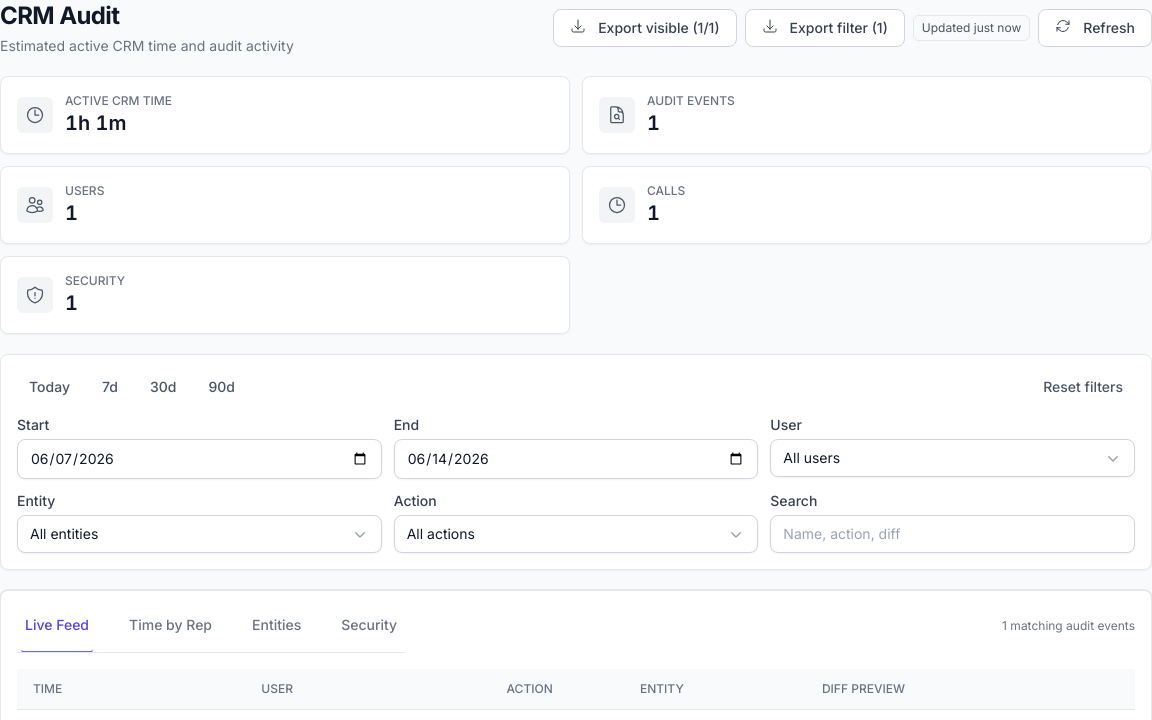
Test: AdminAuditPage › opens rep and entity detail drawers
Click the button "Time by Rep" at (170, 626), box x1=125 y1=599 x2=216 y2=653
(page scrolled)
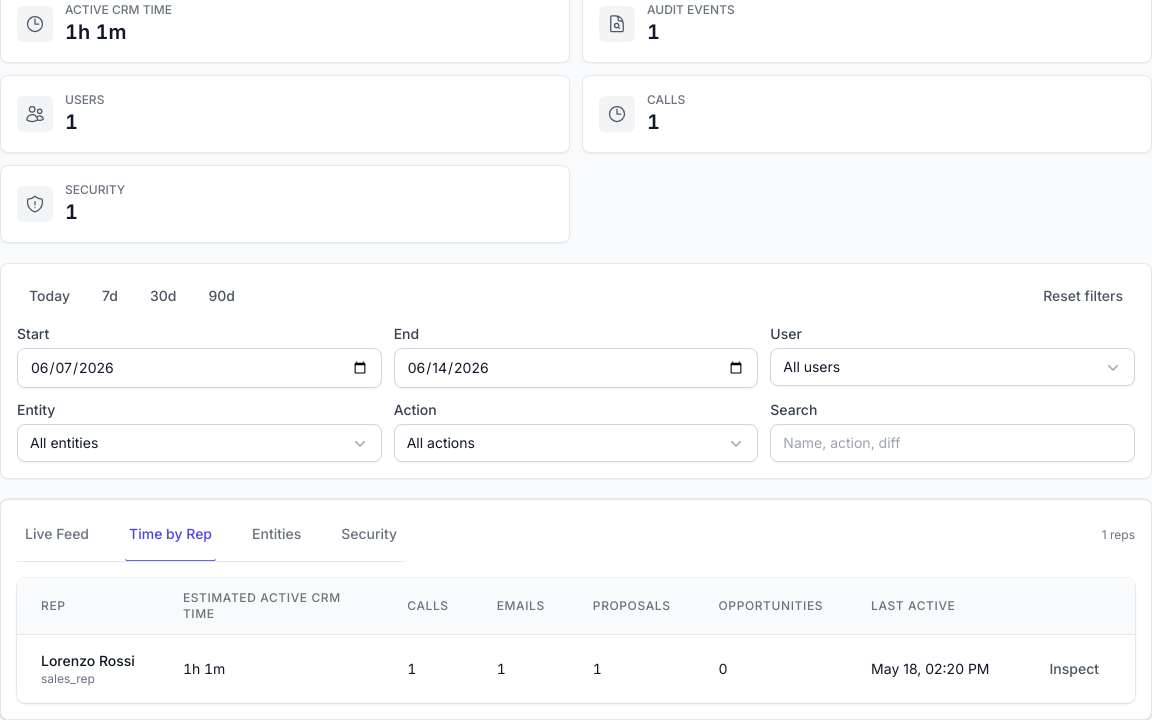
Click the button "Inspect" at (1074, 669), box x1=1038 y1=653 x2=1111 y2=685
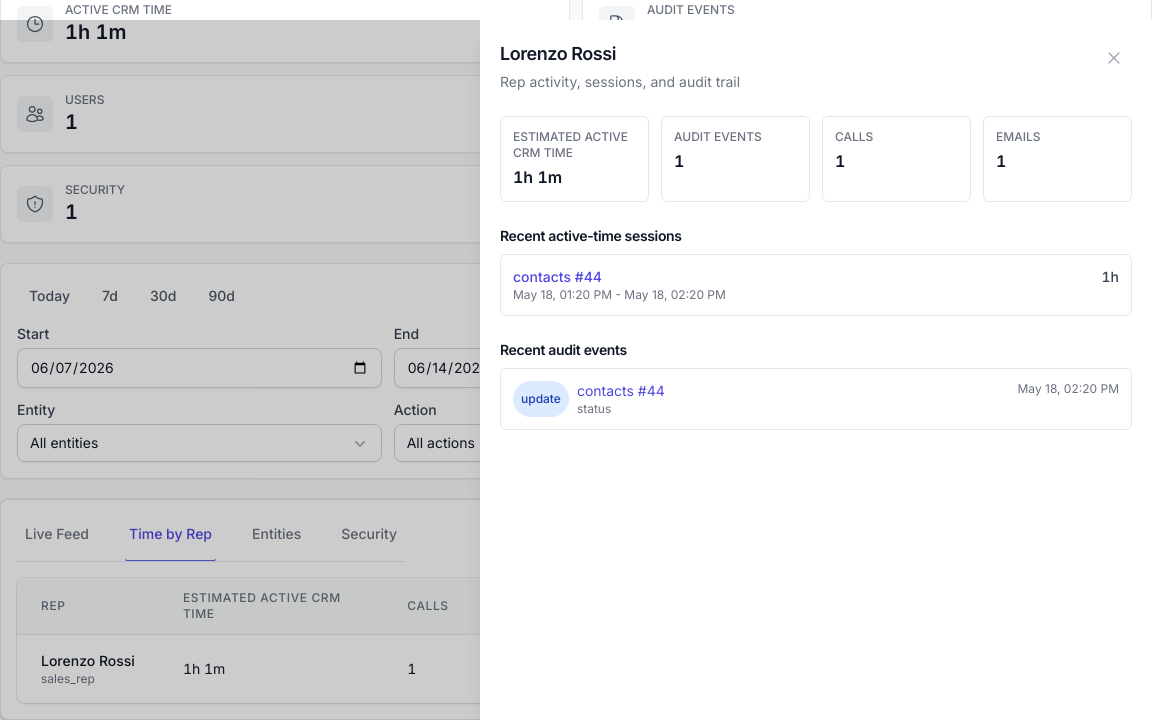
Expected: the dialog "Lorenzo Rossi" is shown, x1=480 y1=20 x2=1151 y2=719
Expected: the heading "Recent active-time sessions" is shown, x1=500 y1=227 x2=682 y2=244
Click the button named "close" at (1114, 58), box x1=1096 y1=40 x2=1132 y2=76
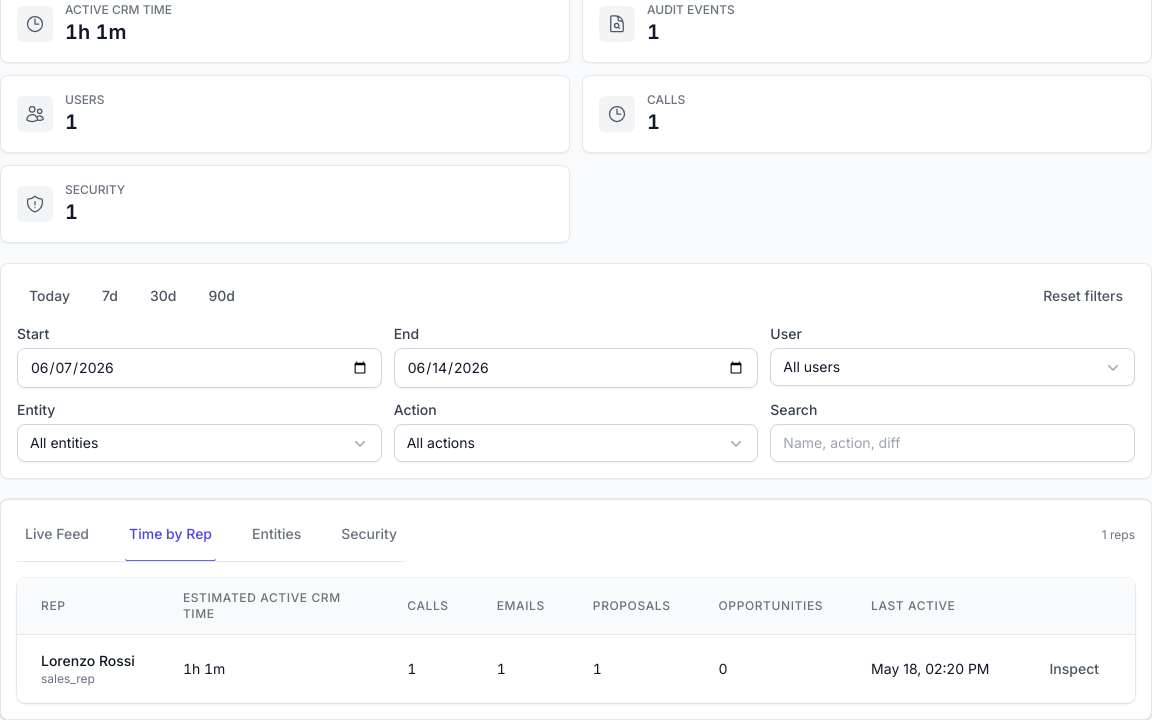
Click the button "Entities" at (277, 535), box x1=248 y1=508 x2=305 y2=562
(page scrolled)
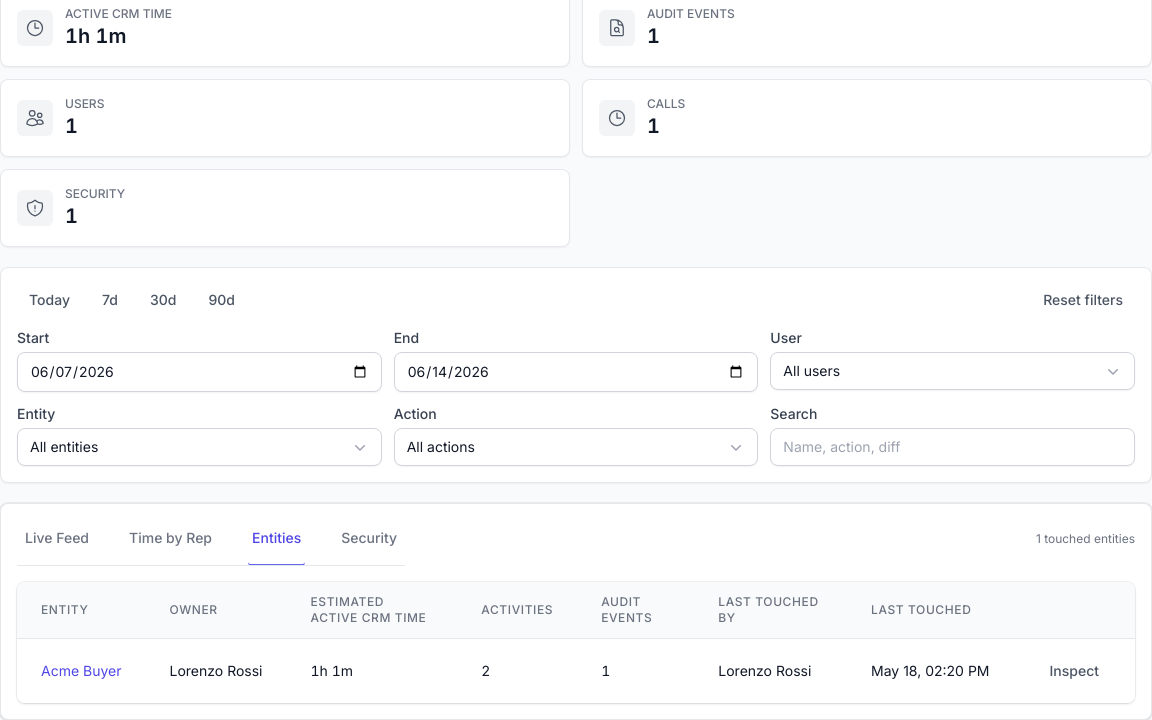
Click the button "Inspect" at (1074, 671), box x1=1038 y1=655 x2=1111 y2=687
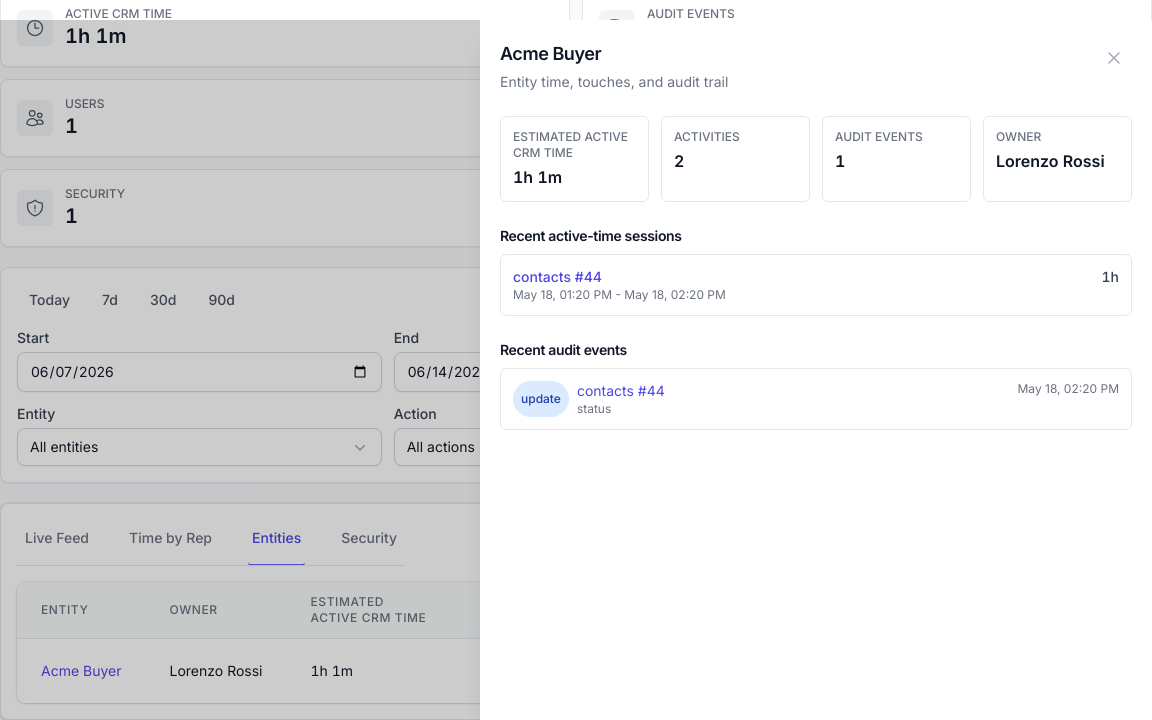
Expected: the dialog "Acme Buyer" is shown, x1=480 y1=20 x2=1151 y2=719
